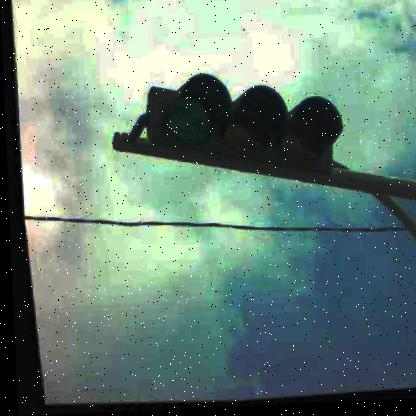Traffic Light -Green-: (134, 66, 346, 193)
